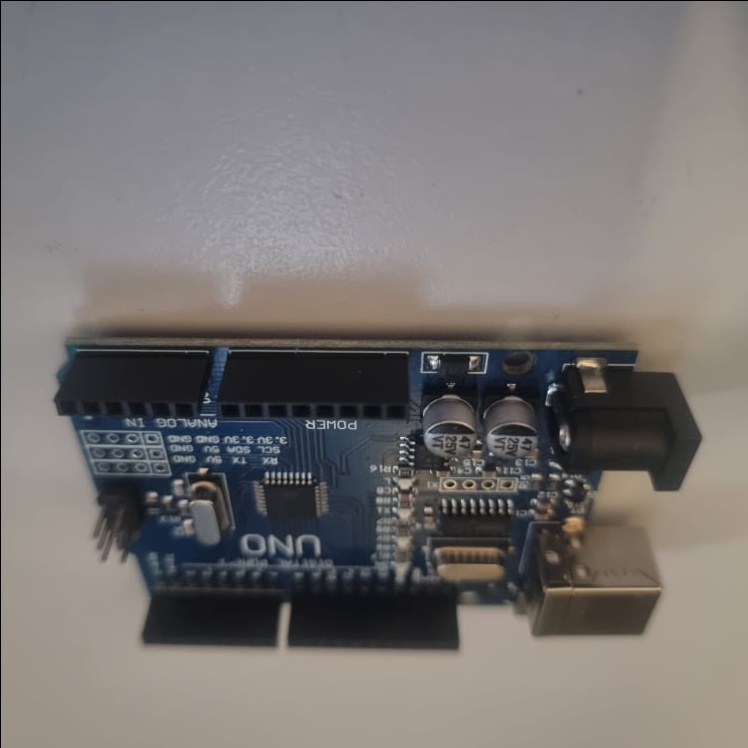UNO R3: (51, 332, 702, 656)
